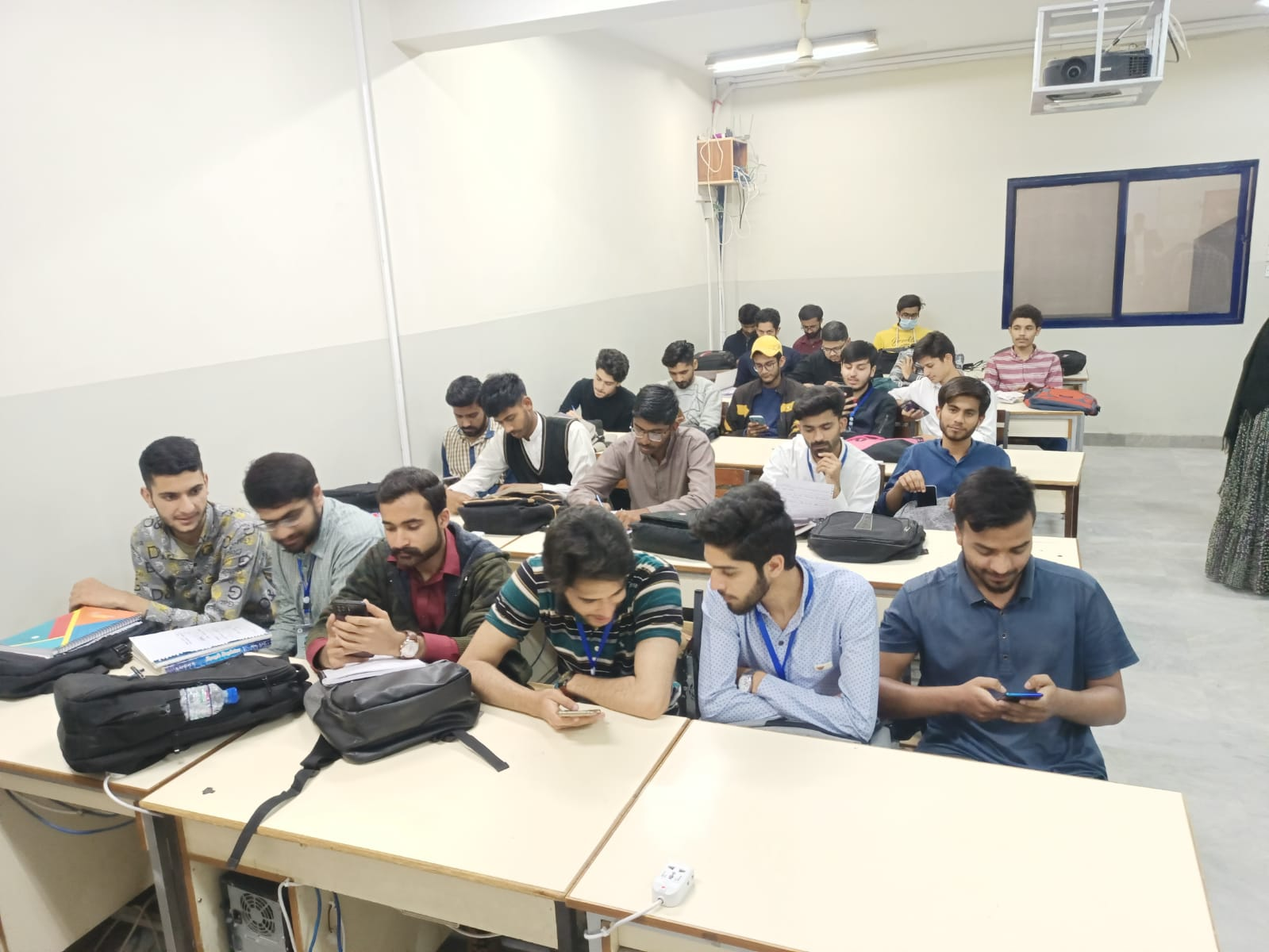non-cheating: (945, 460, 1043, 600), (367, 460, 455, 577), (238, 446, 327, 556), (132, 432, 216, 539), (789, 376, 850, 462), (929, 368, 995, 446), (622, 379, 685, 459), (475, 368, 539, 445), (440, 368, 489, 443), (583, 341, 630, 405), (654, 335, 700, 393), (745, 330, 786, 390), (833, 337, 875, 393), (1003, 305, 1045, 355), (817, 320, 850, 365), (892, 293, 926, 333), (796, 303, 824, 339), (734, 301, 760, 339), (753, 305, 782, 339)
phone: (946, 662, 1082, 737), (315, 592, 419, 669), (518, 674, 607, 739), (892, 465, 943, 513), (892, 392, 933, 429), (733, 412, 773, 442)
